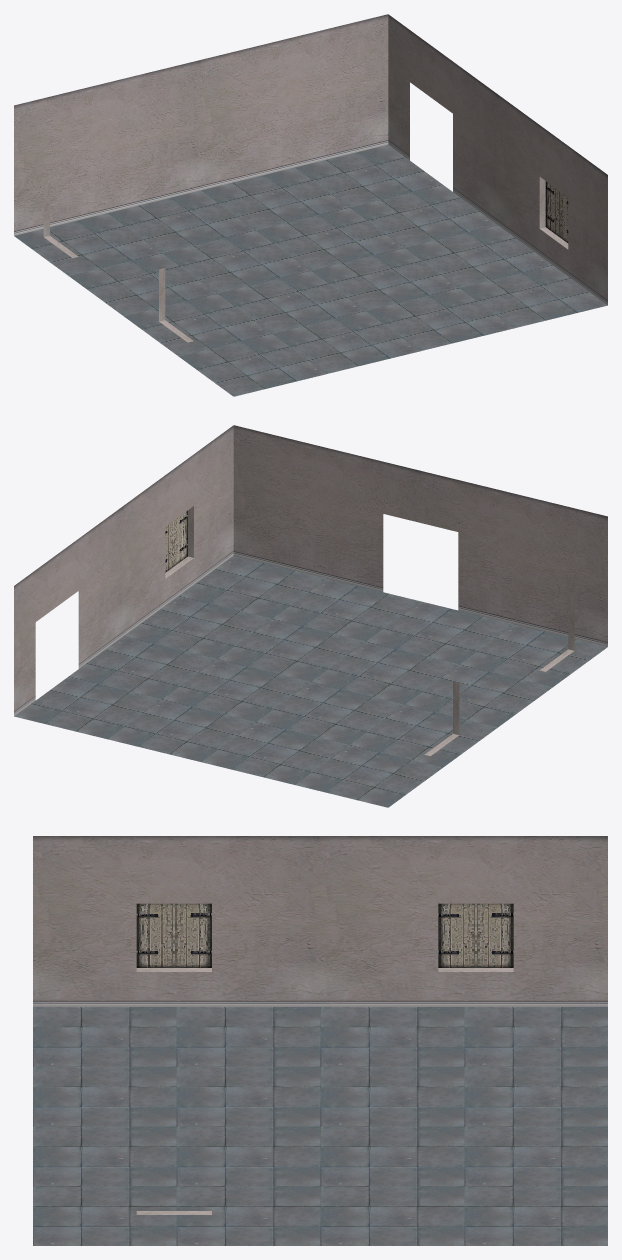
File: BarracksIntA.glb
3 renders of one model, top to bottom at view 1: azimuth 30°, elevation 25°; view 2: azimuth 150°, elevation 25°; view 3: azimuth 270°, elevation 25°, orthographic. The views are drawn at different scales.
Visible parts, largest first — view 1: BARRACKSINTA; view 2: BARRACKSINTA; view 3: BARRACKSINTA.
Part boxes in pixels (x1,y1,x2,y2): BARRACKSINTA: (14,14,607,396); BARRACKSINTA: (14,425,607,807); BARRACKSINTA: (33,836,607,1245).
Bounding box in the file's own units: 15.5 × 5 × 15.75.
5 materials, 4 textured.
